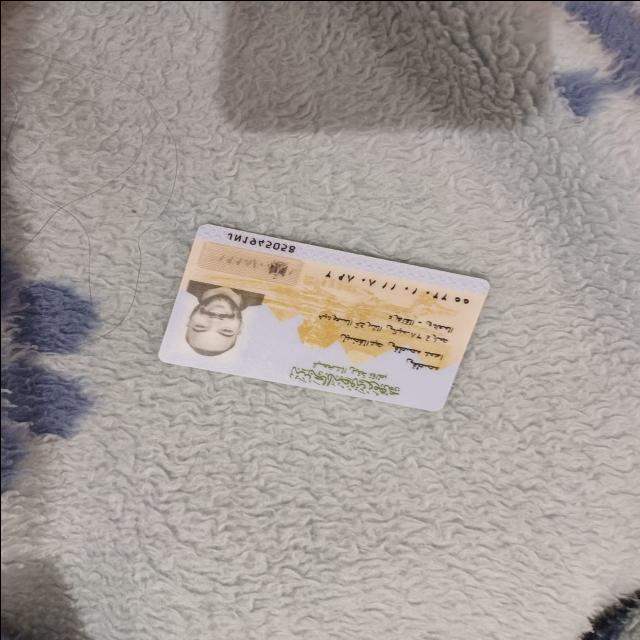ID-cards: (150, 215, 503, 417)
